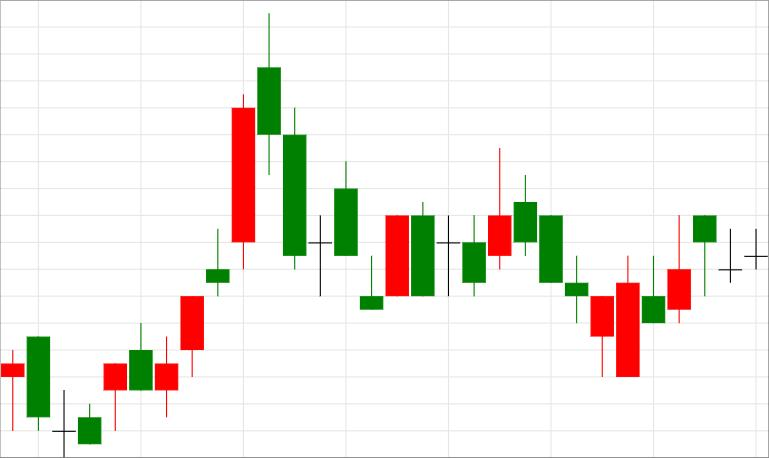morning_star_rise: (258, 14, 409, 311)
